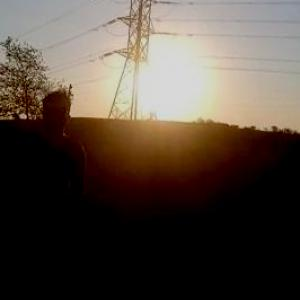follow: (2, 84, 90, 299)
